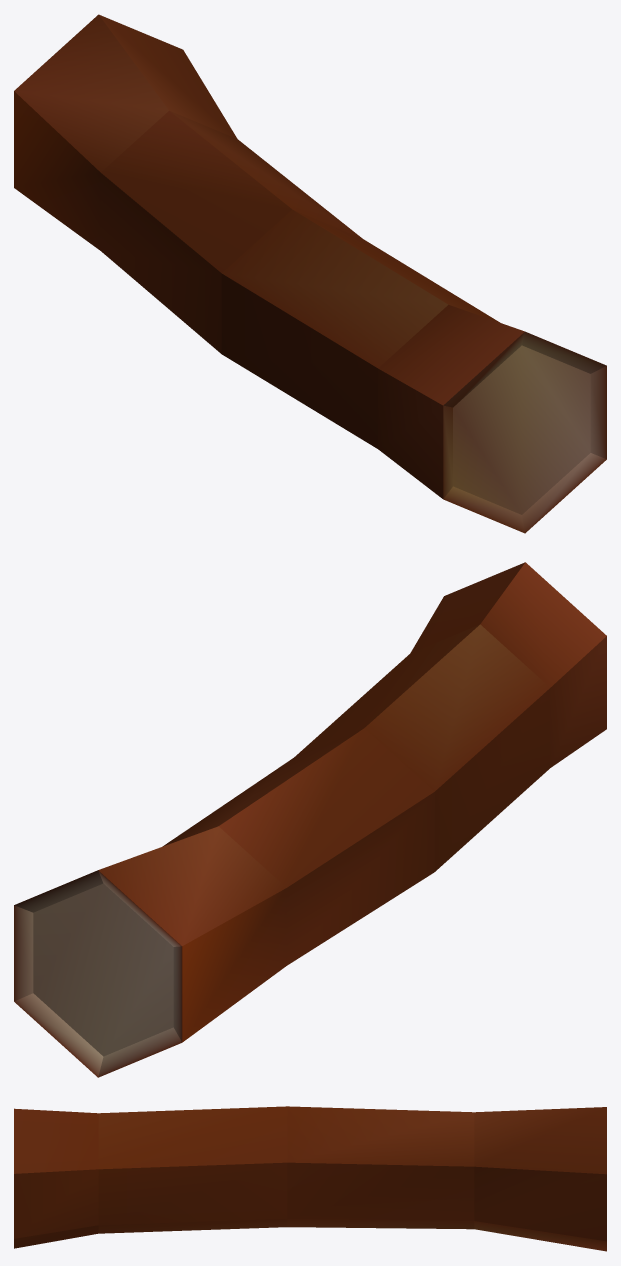
The model's file is wodden log DOUBLE.fbx.
3 renders of one model, top to bottom at view 1: azimuth 30°, elevation 25°; view 2: azimuth 150°, elevation 25°; view 3: azimuth 270°, elevation 25°, orthographic. The views are drawn at different scales.
Parts seen in each view (by area): view 1: Cube; view 2: Cube; view 3: Cube.
Part boxes in pixels (x1,y1,x2,y2): Cube: (14,14,606,533); Cube: (14,562,606,1077); Cube: (14,1106,606,1251).
Size of the model in its own units: 213 by 221 by 822.
